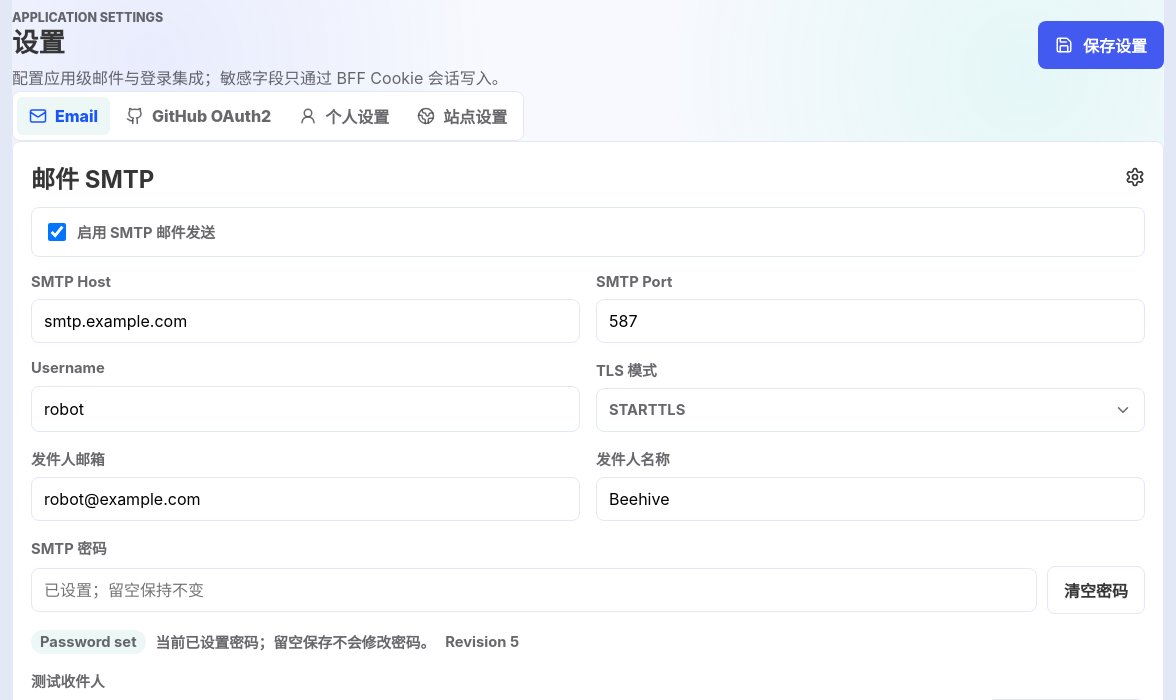
Test: StudioSettingsPage › saves visible fields without sending password by default
Expected: the field labelled "SMTP Host" holds "smtp.example.com", [31,298,580,342]
Replace the text in the field labelled "发件人名称" with "Beehive Mailer" at (870, 498), box [596,476,1145,520]
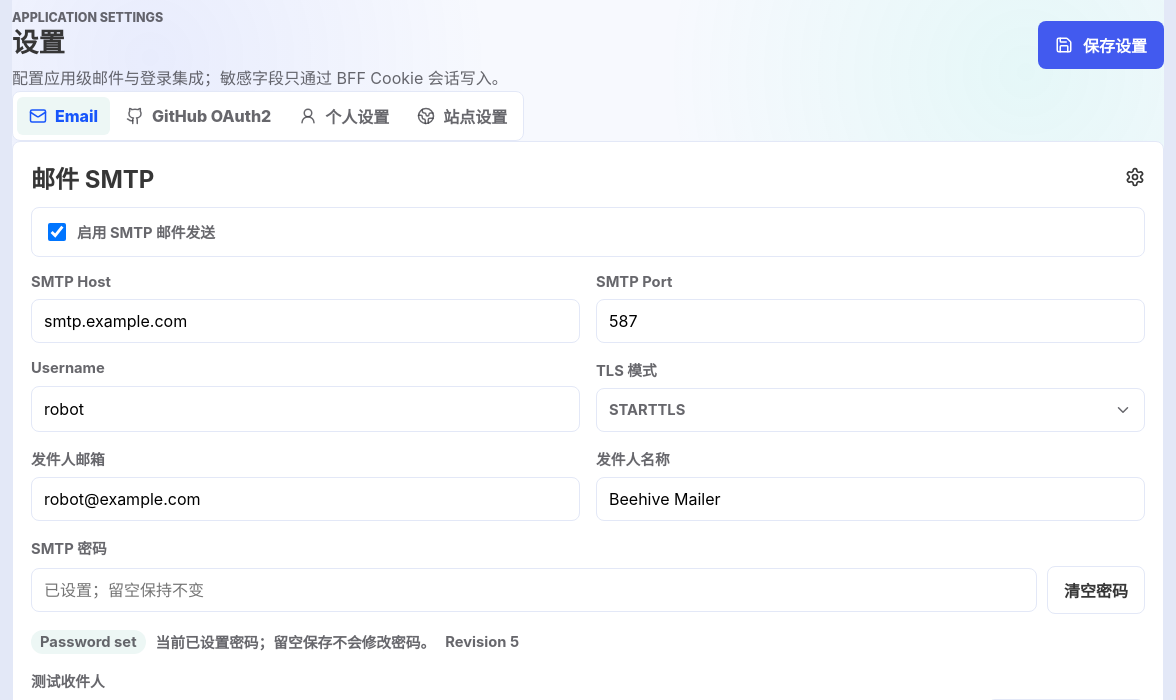
Click the button "保存设置".
click(1101, 45)  # box [1038,21,1164,69]
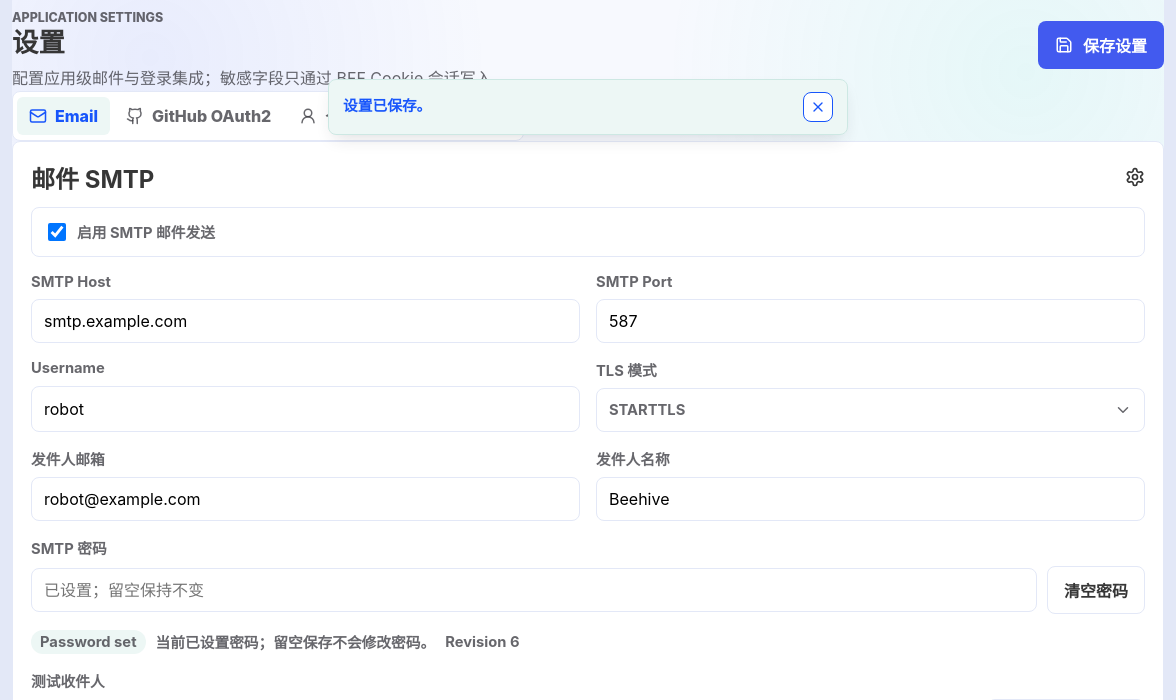
Expected: the text "设置已保存。" is shown, [343,96,431,118]
